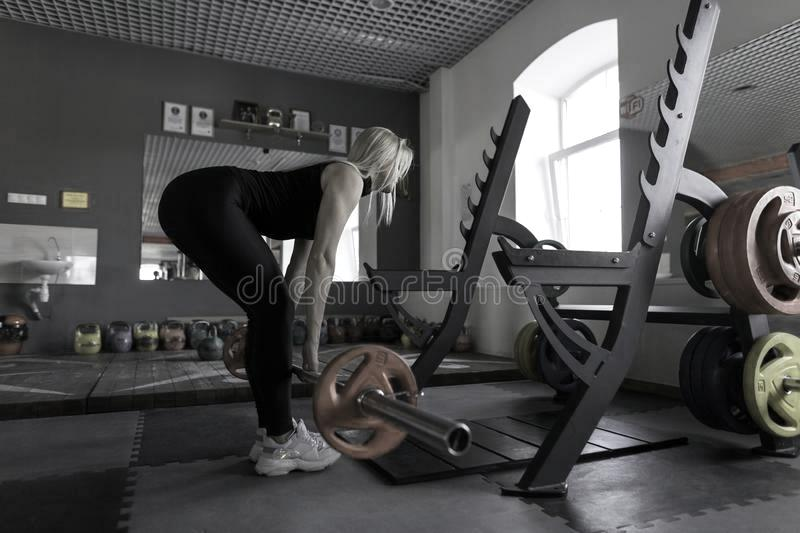Barbell: (444, 422, 475, 458)
